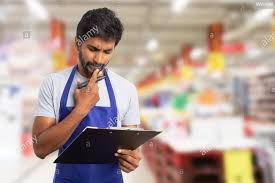Indian_Male: (83, 16, 132, 100)
